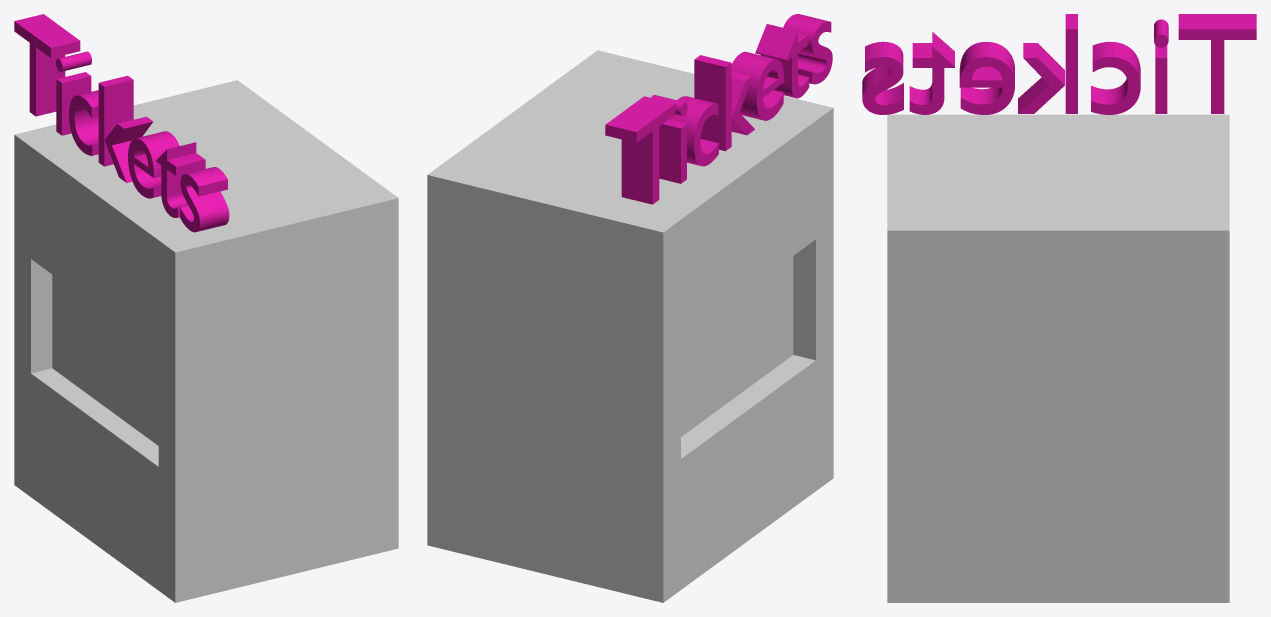
Rendered from tickets.gltf.
The picture shows the model from 3 angles, left to right: view 1: azimuth 30°, elevation 25°; view 2: azimuth 150°, elevation 25°; view 3: azimuth 270°, elevation 25°; orthographic projection. The views are drawn at different scales.
Visible parts, largest first — view 1: caisse; view 2: caisse; view 3: caisse.
Part boxes in pixels (x1,y1,x2,y2): caisse: (14, 14, 398, 602); caisse: (427, 14, 833, 602); caisse: (862, 14, 1256, 602).
Size of the model in its own units: 2 by 3.87 by 2.88.
